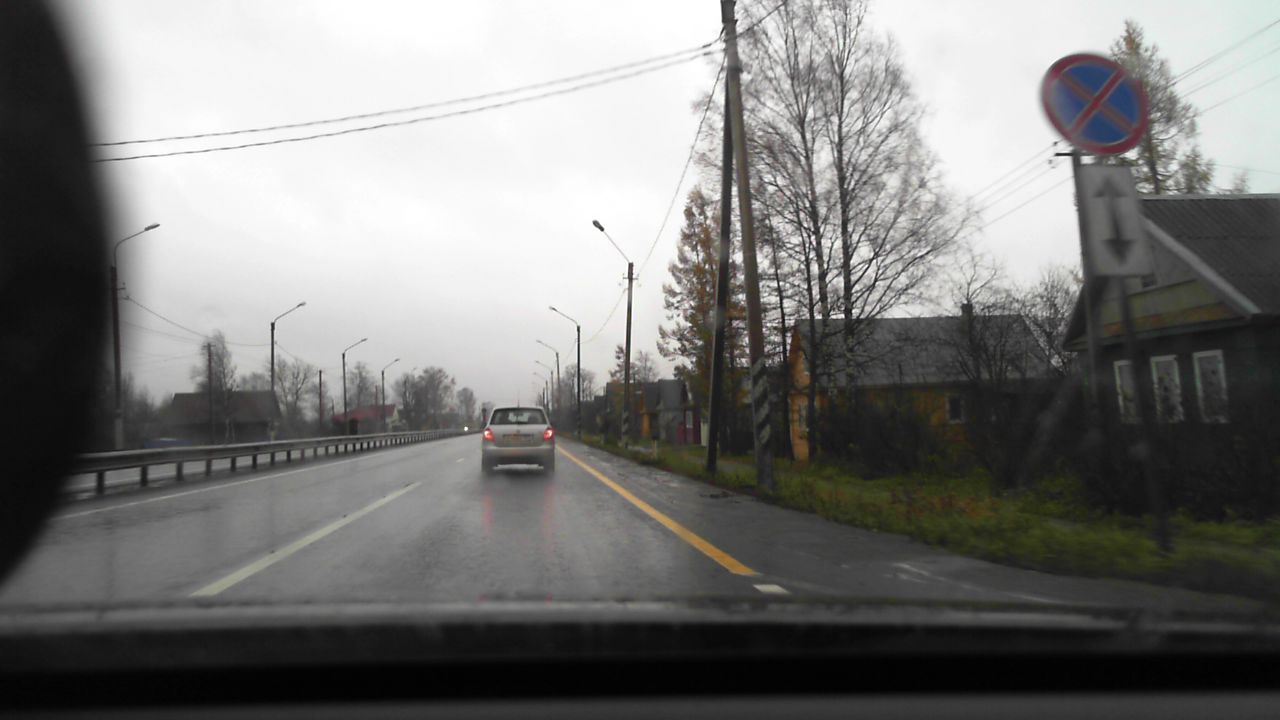No Parking: (1040, 52, 1147, 157)
